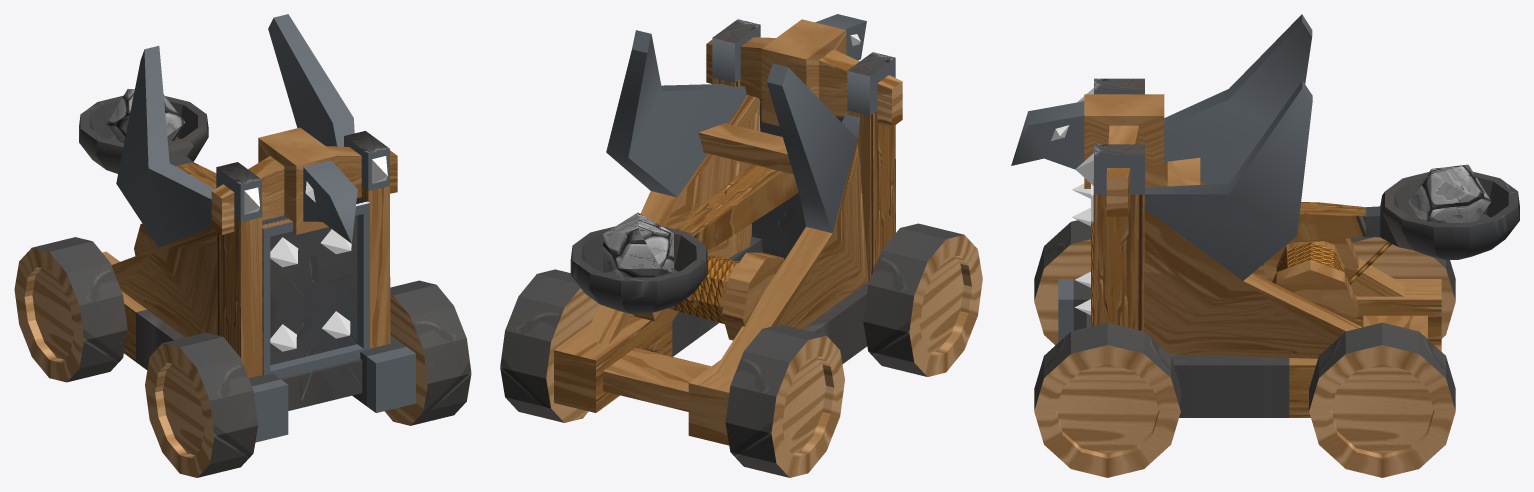
File: cau da lv3.fbx
3 views of the same model, side by side, from view 1: azimuth 30°, elevation 25°; view 2: azimuth 150°, elevation 25°; view 3: azimuth 270°, elevation 25° (orthographic). The views are drawn at different scales.
Parts seen in each view (by area): view 1: polySurface18, polySurface23, pPlatonic3; view 2: polySurface18, polySurface23, pPlatonic3; view 3: polySurface18, polySurface23, pPlatonic3.
Part boxes in pixels (x1,y1,x2,y2): polySurface18: (14, 14, 471, 477); polySurface23: (79, 95, 216, 188); pPlatonic3: (106, 89, 185, 142); polySurface18: (500, 14, 982, 477); polySurface23: (570, 164, 798, 314); pPlatonic3: (603, 212, 673, 277); polySurface18: (1011, 14, 1455, 477); polySurface23: (1289, 171, 1519, 259); pPlatonic3: (1408, 164, 1491, 222).
Bounding box in the file's own units: 7.43 × 9.47 × 12.09.
Materials: 1 (1 with a texture image).
